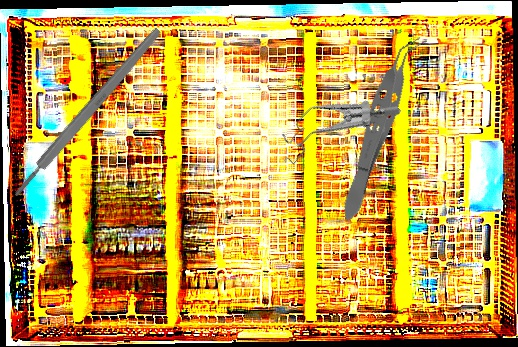Scalpel Handle: (10, 25, 164, 200)
Speculum: (267, 61, 404, 197)
Tissue Forceps: (332, 27, 428, 227)
